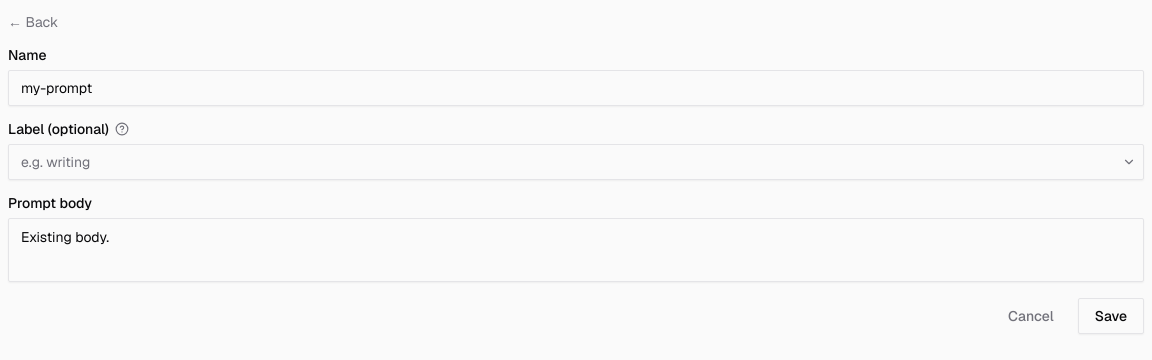
Test: PromptForm › should show discard confirmation at bottom when Back is clicked on dirty form
Type " extra" into the text box labelled "Prompt body" at (576, 250), box [8,218,1144,282]
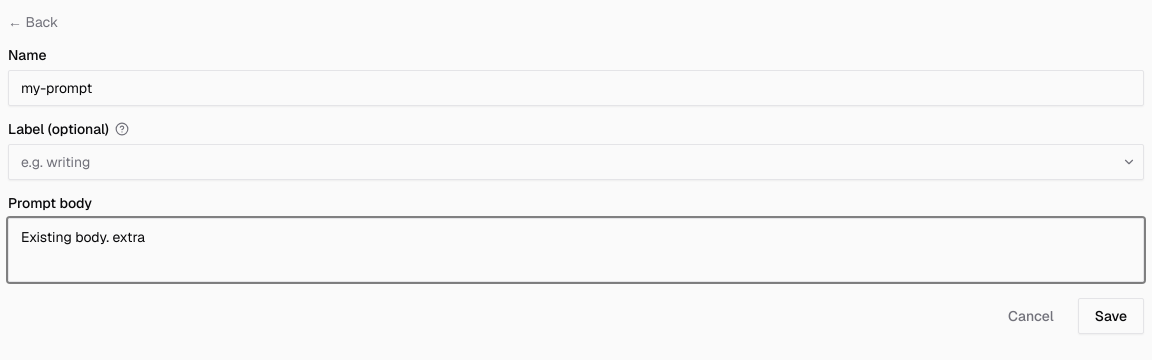
Click the button "← Back" at (33, 22), box [8,12,58,32]
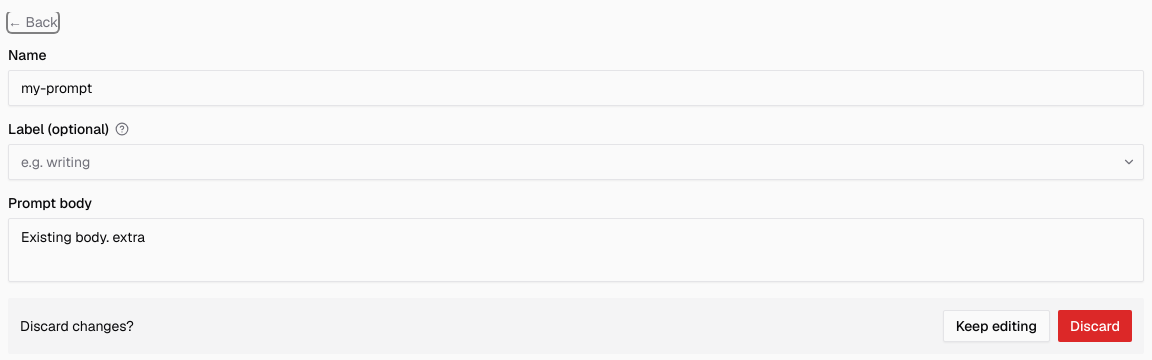
expect the text "Discard changes?" is shown: met, box [20,316,134,336]
expect the button "Cancel" is gone: met
expect the button "Save" is gone: met
